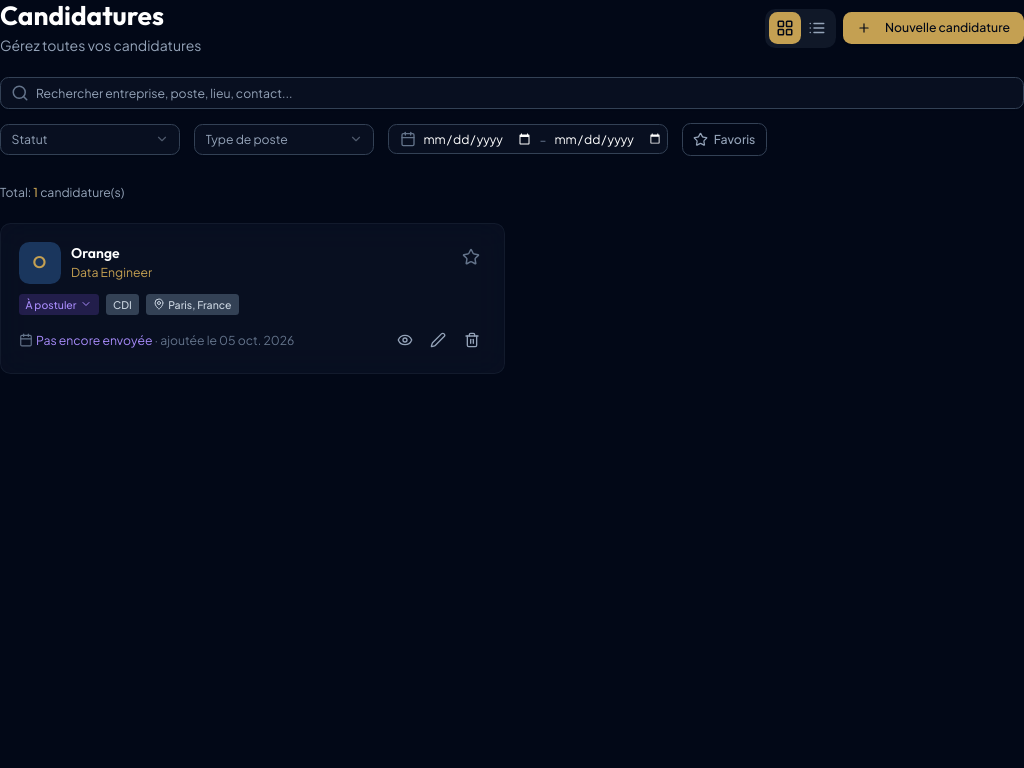
it: annuler le dialog n'envoie rien
The width and height of the screenshot is (1024, 768).
Click the button "À postuler": click(59, 304) [18,294,99,314]
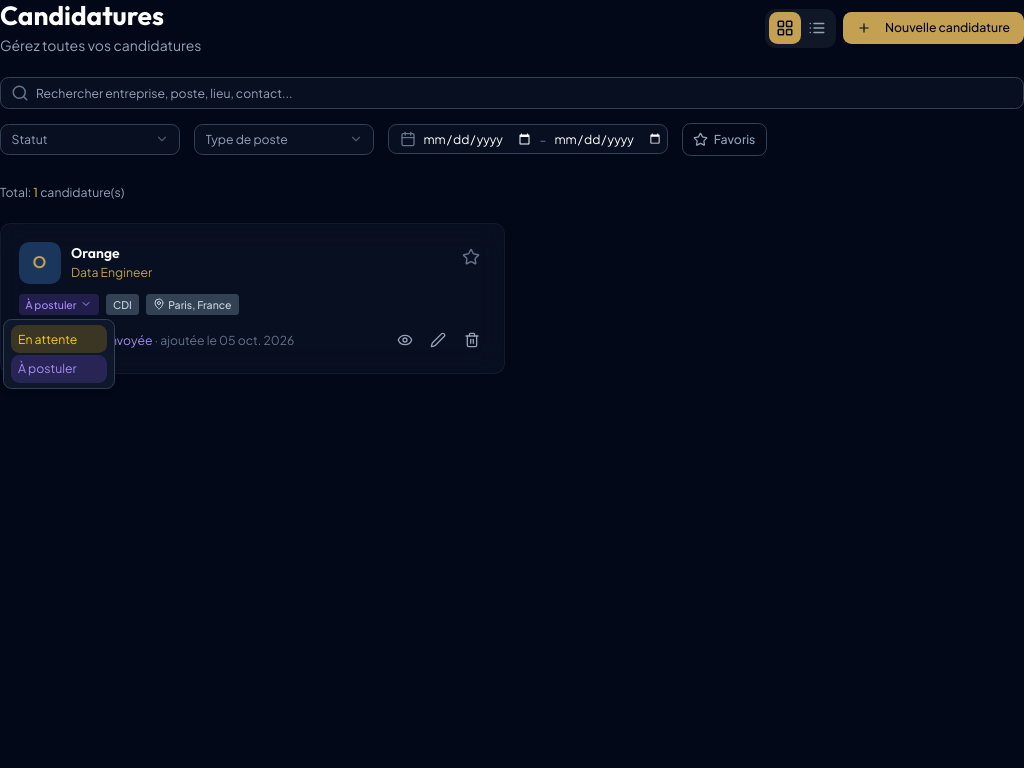
Click the menu item "En attente": click(59, 339) [11,325,107,353]
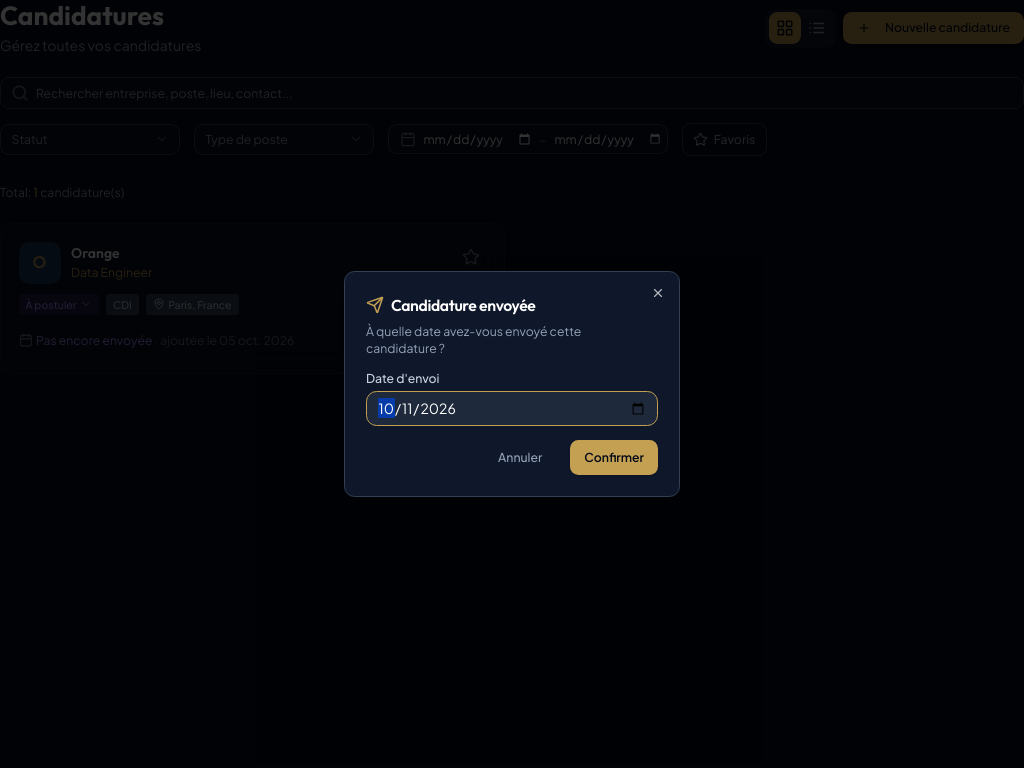
Click the button "Annuler": click(520, 458) [484,440,556,475]
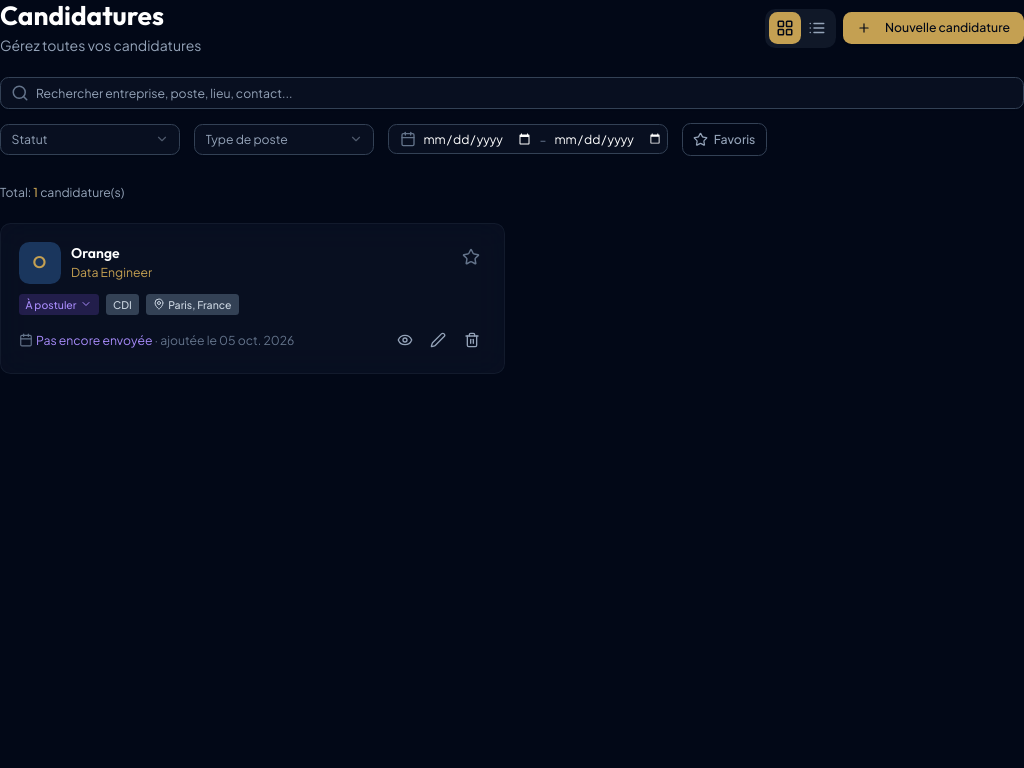
Expected: the dialog with test id "sent-date-dialog" is gone
